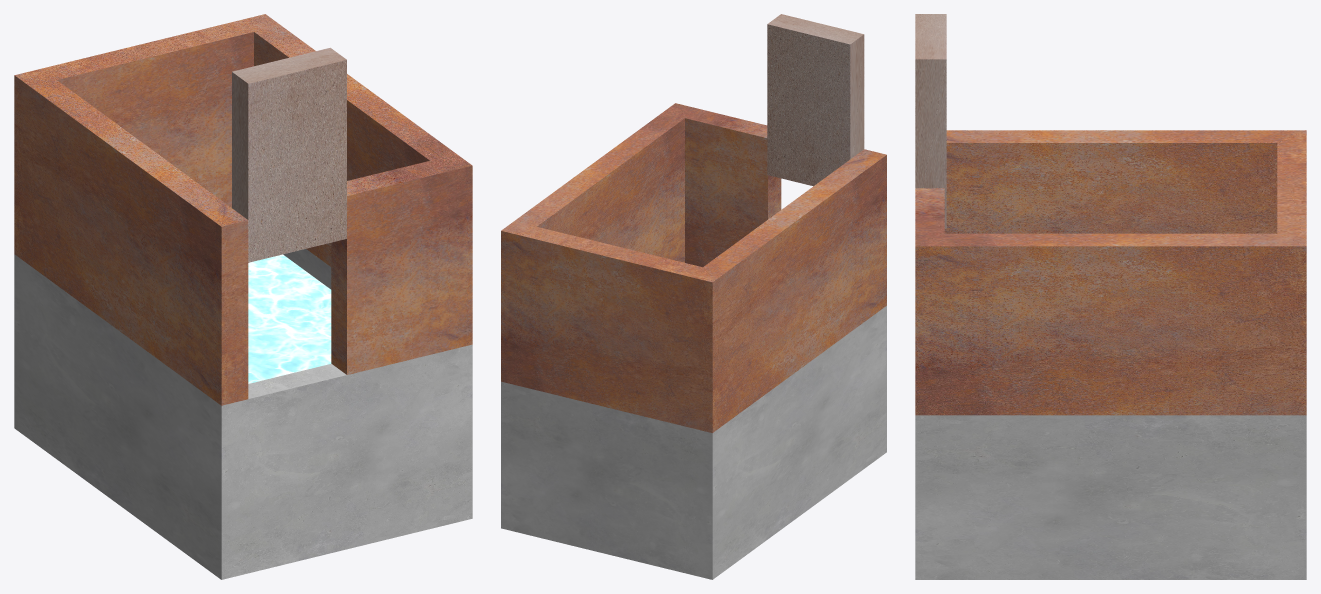
File: water.glb
3 renders of one model, left to right at view 1: azimuth 30°, elevation 25°; view 2: azimuth 150°, elevation 25°; view 3: azimuth 270°, elevation 25°, orthographic. The views are drawn at different scales.
Parts seen in each view (by area): view 1: mesh_3, mesh_2, mesh_1, mesh_7; view 2: mesh_3, mesh_2, mesh_1; view 3: mesh_3, mesh_2, mesh_1.
Part boxes in pixels (box(x1,y1,x2,y2)): mesh_3: box(14, 14, 472, 405); mesh_2: box(14, 249, 472, 579); mesh_1: box(232, 47, 346, 262); mesh_7: box(248, 254, 331, 383); mesh_3: box(501, 103, 886, 432); mesh_2: box(501, 306, 886, 579); mesh_1: box(767, 14, 864, 186); mesh_3: box(915, 130, 1306, 415); mesh_2: box(915, 415, 1306, 579); mesh_1: box(915, 14, 946, 228).
Size of the model in its own units: 91.36 by 170 by 131.
Materials: 4 (4 with a texture image).
